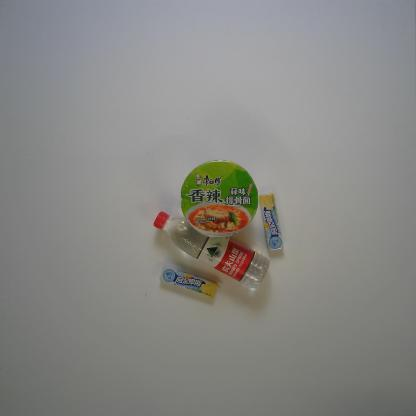Candy: (155, 263, 221, 300), (257, 190, 287, 256)
Drink: (153, 207, 270, 292)
Instant Noodles: (176, 157, 258, 238)
